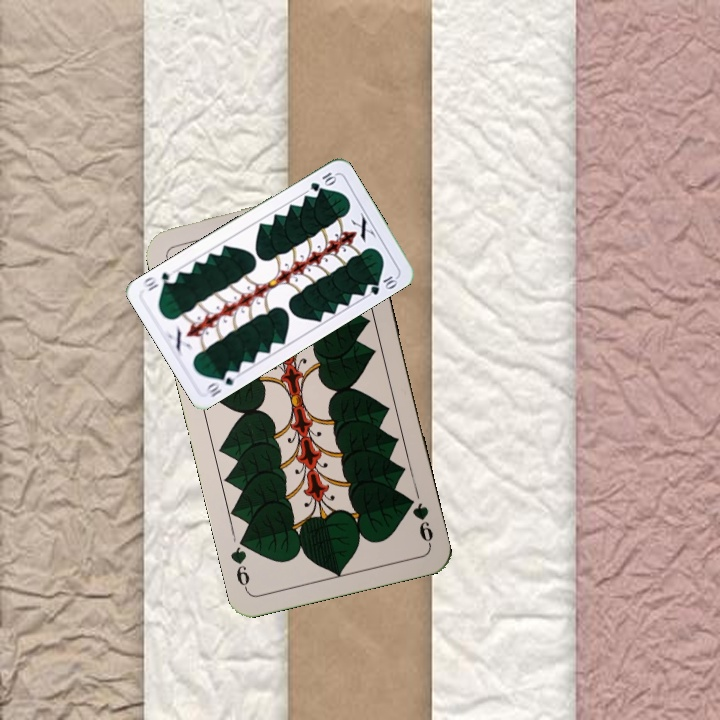G10: (203, 366, 241, 400), (306, 168, 339, 194)
G9: (402, 492, 436, 548)
